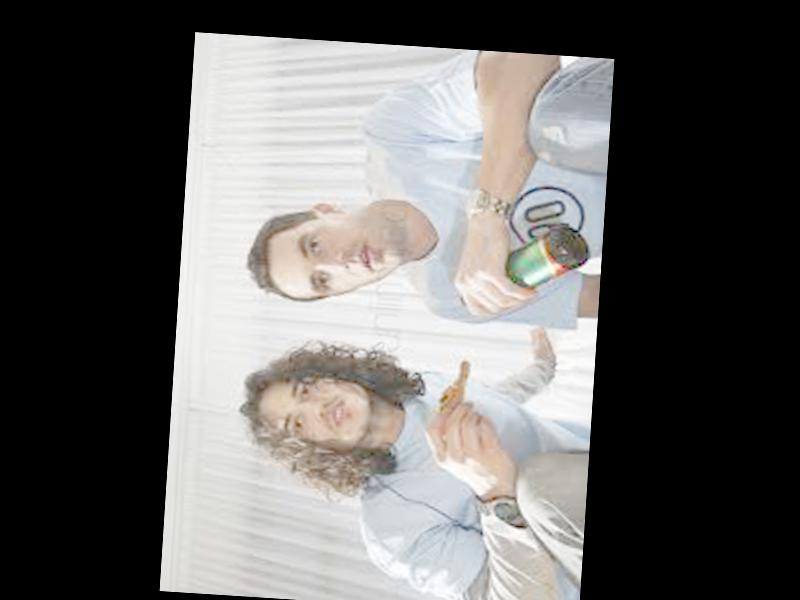Beer: (458, 216, 592, 313)
